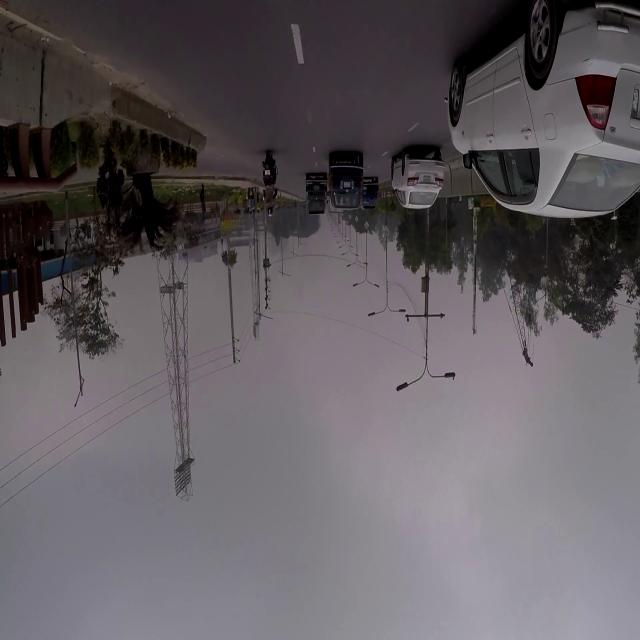black: (305, 174, 329, 216)
blue: (327, 153, 364, 211), (359, 180, 379, 210)
white: (445, 2, 639, 221), (390, 149, 445, 211)
